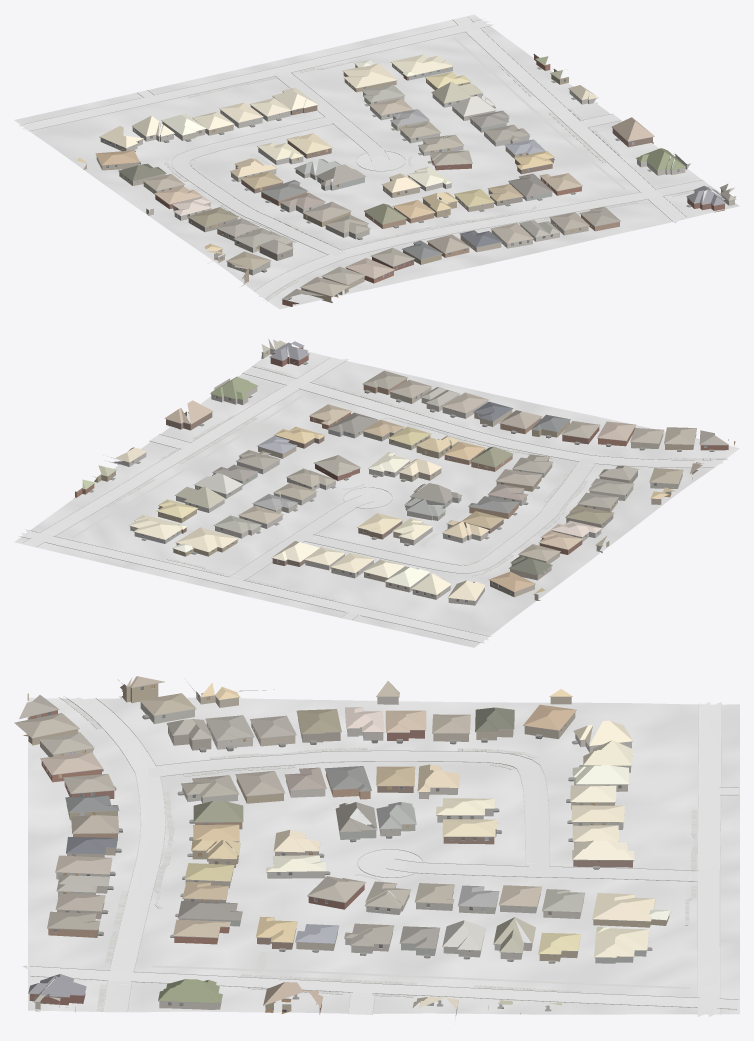
The picture shows the model from 3 angles, top to bottom: view 1: azimuth 30°, elevation 25°; view 2: azimuth 150°, elevation 25°; view 3: azimuth 270°, elevation 25°; orthographic projection. The views are drawn at different scales.
Visible parts, largest first — view 1: ground, roof, concrete, asphalt, wall, wall_stucco, detail, curb, walk, wall_stone, mark_w, glass; view 2: ground, roof, concrete, asphalt, wall, wall_stucco, detail, curb, walk, wall_stone, mark_w; view 3: ground, roof, concrete, asphalt, wall, wall_stucco, walk, detail, curb, wall_stone, mark_w, mark_y (+1 smaller).
Boxes of the visible parts, <box> form: ground: <box>14,14,739,309</box>; roof: <box>76,54,735,299</box>; concrete: <box>138,71,710,297</box>; asphalt: <box>18,17,686,223</box>; wall: <box>83,54,724,306</box>; wall_stucco: <box>143,63,736,288</box>; detail: <box>99,54,735,300</box>; curb: <box>22,17,713,301</box>; walk: <box>164,37,712,300</box>; wall_stone: <box>100,90,597,220</box>; mark_w: <box>31,17,686,252</box>; glass: <box>106,65,725,291</box>; ground: <box>14,347,739,647</box>; roof: <box>82,338,728,600</box>; concrete: <box>150,367,722,619</box>; asphalt: <box>21,358,488,643</box>; wall: <box>74,347,735,600</box>; wall_stucco: <box>130,344,682,592</box>; detail: <box>75,343,728,602</box>; curb: <box>19,357,727,642</box>; walk: <box>71,365,726,600</box>; wall_stone: <box>109,453,602,605</box>; mark_w: <box>26,358,592,636</box>; ground: <box>28,697,739,1014</box>; roof: <box>14,676,670,1009</box>; concrete: <box>70,697,738,1014</box>; asphalt: <box>22,702,738,1016</box>; wall: <box>27,683,669,1014</box>; wall_stucco: <box>35,702,646,1012</box>; walk: <box>61,698,697,1011</box>; detail: <box>19,680,670,1011</box>; curb: <box>24,696,738,1014</box>; wall_stone: <box>267,697,631,1016</box>; mark_w: <box>24,702,738,1014</box>; mark_y: <box>31,703,737,1015</box>.
Bounding box in the file's own units: 272 × 14.03 × 255.
